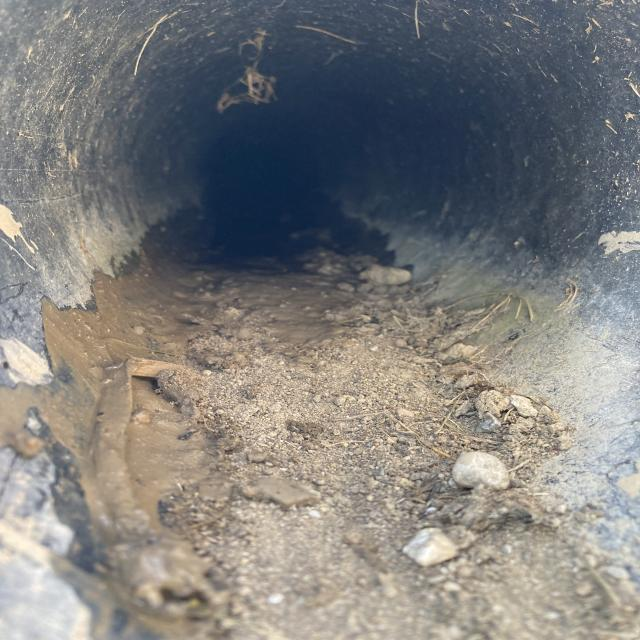dirt: (112, 237, 526, 640)
root: (145, 18, 293, 112), (289, 17, 383, 54)
